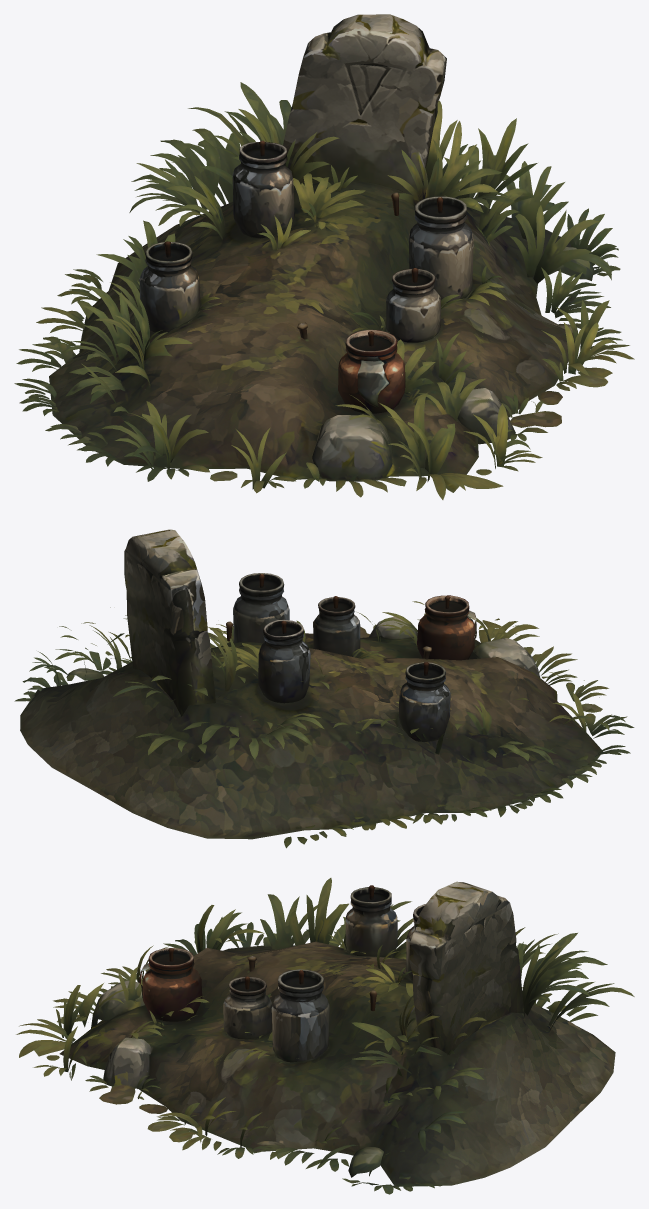
The model's file is act1_extras_v1_jar_candle_grave.glb.
3 views of the same model, one above another, from view 1: azimuth 30°, elevation 25°; view 2: azimuth 150°, elevation 25°; view 3: azimuth 270°, elevation 25° (orthographic). The views are drawn at different scales.
Parts seen in each view (by area): view 1: ecb43b0f_cfc9_4339_aff7_0231d0aca9cf; view 2: ecb43b0f_cfc9_4339_aff7_0231d0aca9cf; view 3: ecb43b0f_cfc9_4339_aff7_0231d0aca9cf.
Boxes of the visible parts, bbox=[...] form: ecb43b0f_cfc9_4339_aff7_0231d0aca9cf: bbox=[14, 14, 634, 499]; ecb43b0f_cfc9_4339_aff7_0231d0aca9cf: bbox=[14, 529, 634, 848]; ecb43b0f_cfc9_4339_aff7_0231d0aca9cf: bbox=[16, 878, 634, 1194].
Bounding box in the file's own units: 0.9995 × 0.4009 × 0.9849.
Materials: 1 (1 with a texture image).
